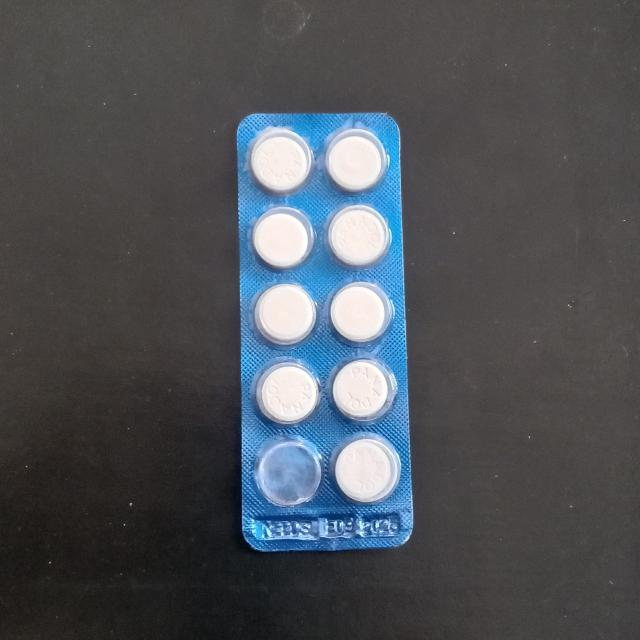defect: (245, 434, 326, 511)
